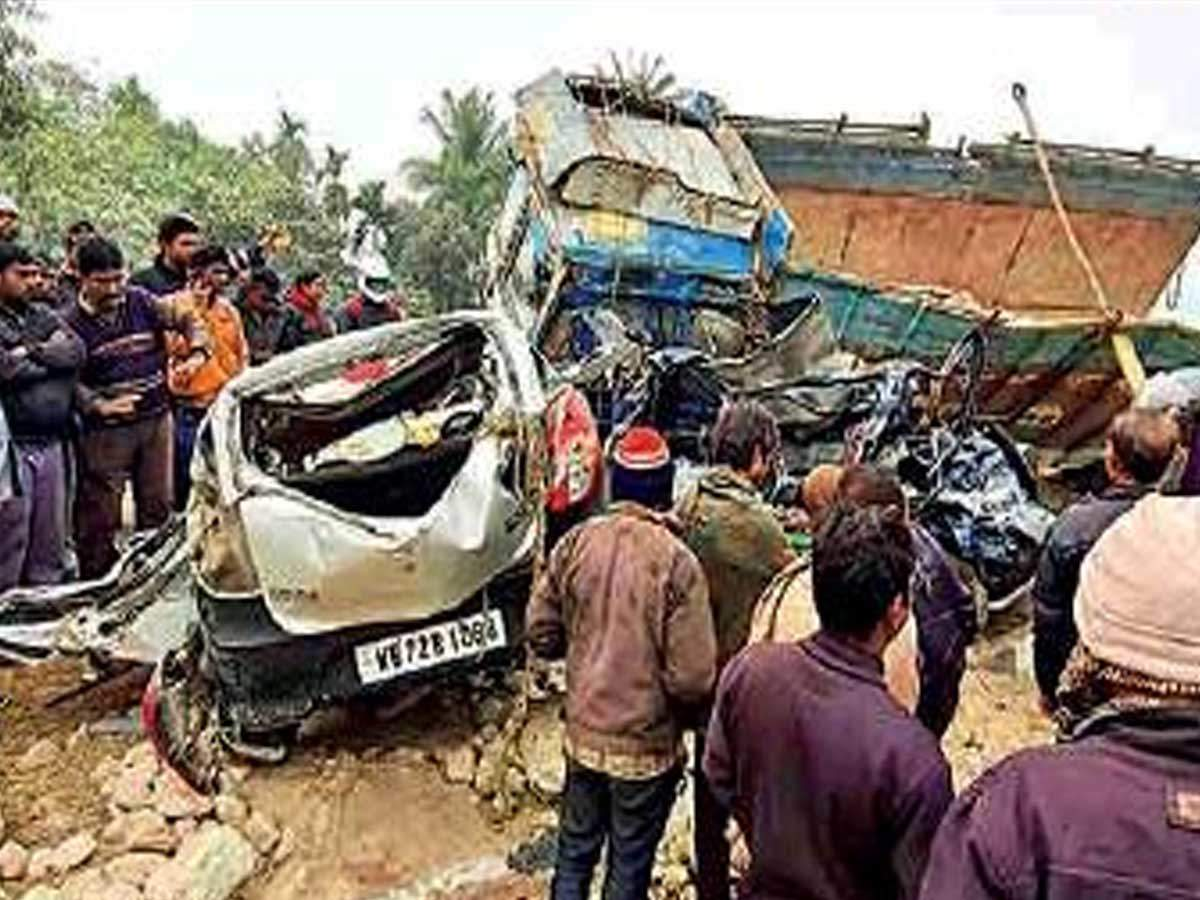accident: (182, 51, 948, 745)
